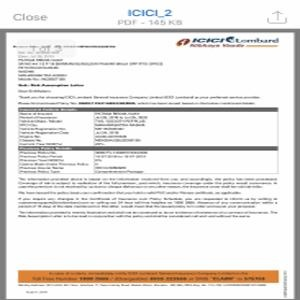image: (173, 34, 283, 51)
text: (8, 41, 259, 107), (19, 177, 281, 219), (19, 111, 151, 146), (20, 151, 153, 174)
